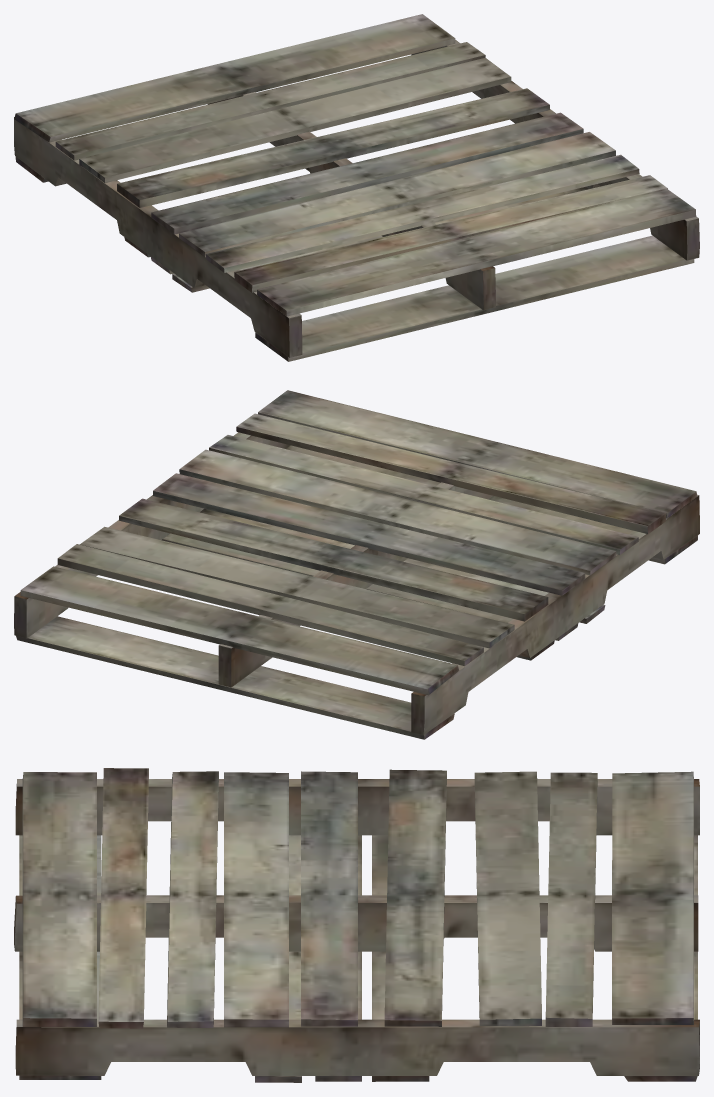
Rendered from wood_pallet001a.glb.
The picture shows the model from 3 angles, top to bottom: view 1: azimuth 30°, elevation 25°; view 2: azimuth 150°, elevation 25°; view 3: azimuth 270°, elevation 25°; orthographic projection. The views are drawn at different scales.
Parts seen in each view (by area): view 1: 0_Wood_PalletCrate001a; view 2: 0_Wood_PalletCrate001a; view 3: 0_Wood_PalletCrate001a.
Boxes of the visible parts, <box> form: 0_Wood_PalletCrate001a: <box>14,14,699,361</box>; 0_Wood_PalletCrate001a: <box>14,390,699,739</box>; 0_Wood_PalletCrate001a: <box>14,768,699,1082</box>.
Size of the model in its own units: 1.65 by 0.1994 by 1.91.
1 material, 1 textured.
